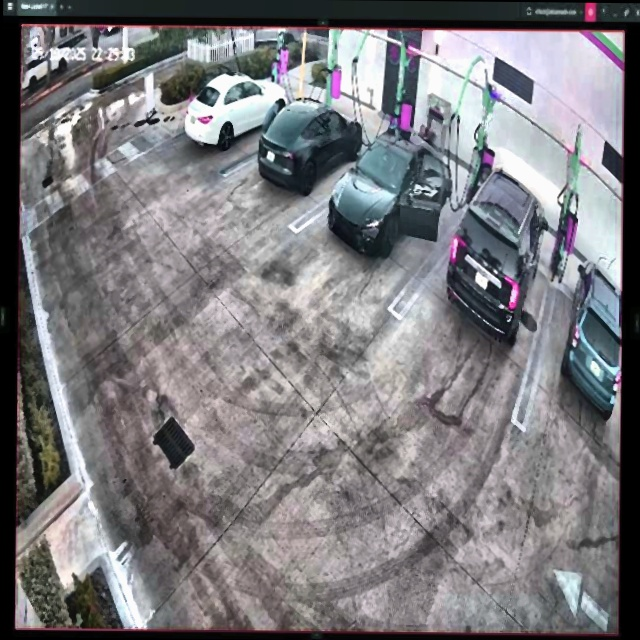Car: (447, 170, 549, 347), (327, 130, 453, 260), (259, 98, 364, 192), (185, 75, 288, 148)
